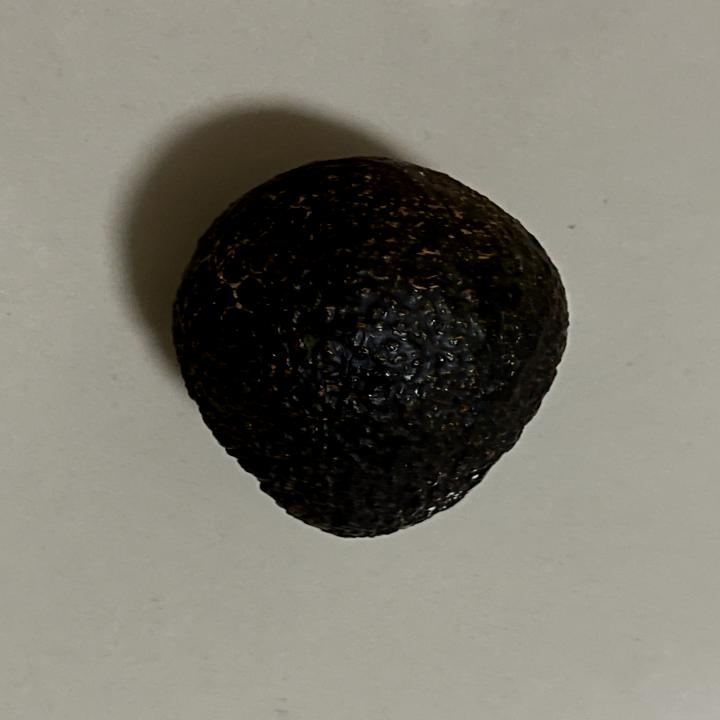Level2: (162, 149, 578, 545)
